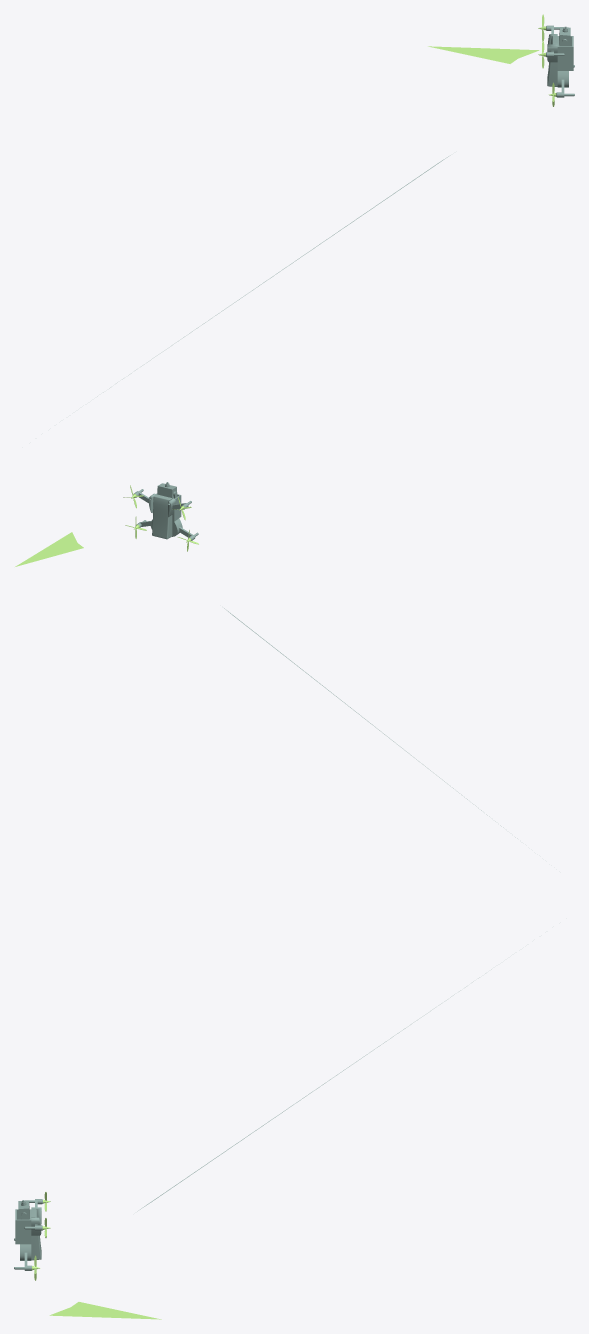
The picture shows the model from 3 angles, top to bottom: view 1: azimuth 90°, elevation 25°; view 2: azimuth 150°, elevation 25°; view 3: azimuth 270°, elevation 25°; orthographic projection. The views are drawn at different scales.
Parts seen in each view (by area): view 1: 无人机, 对象001; view 2: 无人机, 对象001; view 3: 无人机, 对象001.
Boxes of the visible parts, x1=… form: 无人机: x1=97, y1=25, x2=574, y2=396; 对象001: x1=428, y1=41, x2=545, y2=68; 无人机: x1=134, y1=482, x2=517, y2=838; 对象001: x1=15, y1=497, x2=191, y2=566; 无人机: x1=14, y1=969, x2=491, y2=1270; 对象001: x1=43, y1=1192, x2=161, y2=1319.
Bounding box in the file's own units: 1814 × 144 × 1056.
